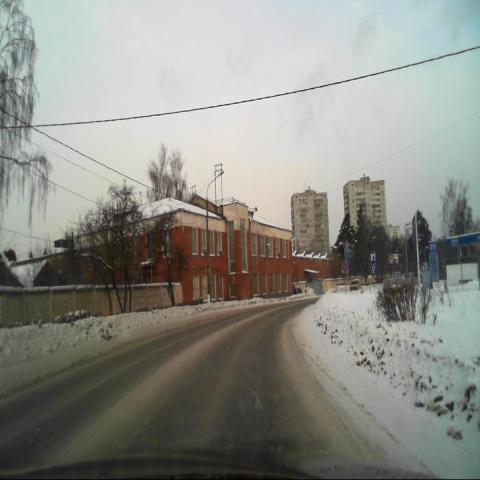3_27: (342, 260, 348, 273)
